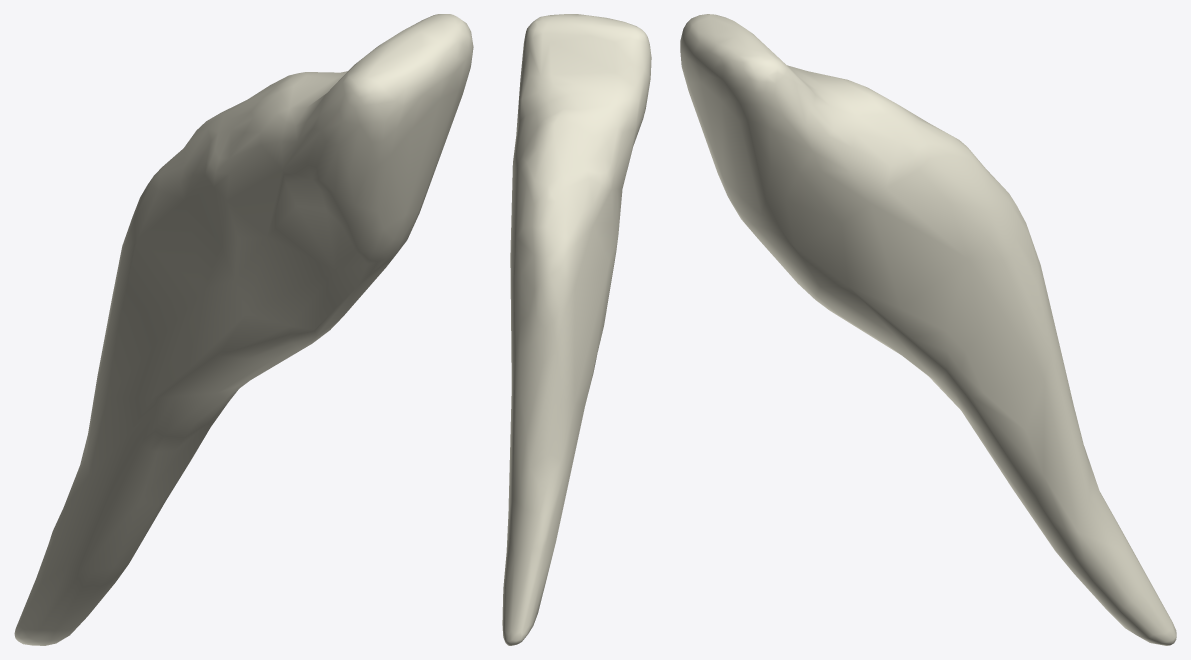
Rendered from Left lower lateral incisor tooth.fbx.
3 renders of one model, left to right at view 1: azimuth 30°, elevation 25°; view 2: azimuth 150°, elevation 25°; view 3: azimuth 270°, elevation 25°, orthographic. The views are drawn at different scales.
Visible parts, largest first — view 1: Left lower lateral incisor tooth; view 2: Left lower lateral incisor tooth; view 3: Left lower lateral incisor tooth.
Boxes of the visible parts, box(x1,y1,x2,y2) form: Left lower lateral incisor tooth: box(14, 14, 473, 645); Left lower lateral incisor tooth: box(502, 14, 651, 645); Left lower lateral incisor tooth: box(680, 14, 1176, 645).
Bounding box in the file's own units: 1.05 × 3.34 × 2.25.
